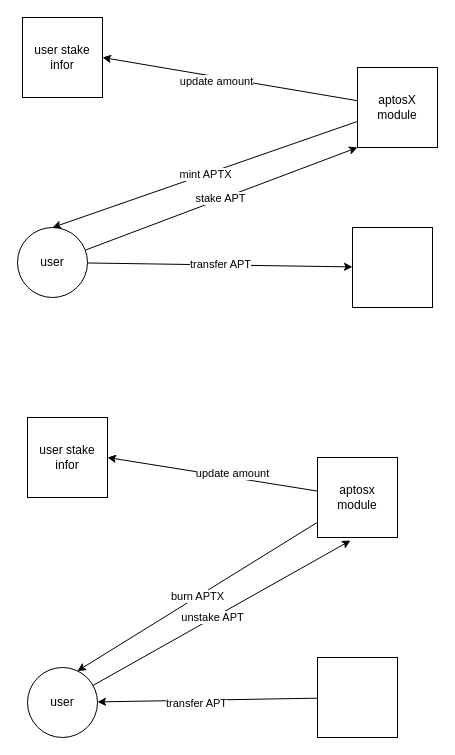
The diagram is 455 pixels wide and 755 high, and some of its shapes have lost their labels. The shapes that lost their labels are listed below. From the top down, each one's centre as x and y in pixels, then its label:
At (392,267): "stake_vault".
At (357,697): "stake-vault".
